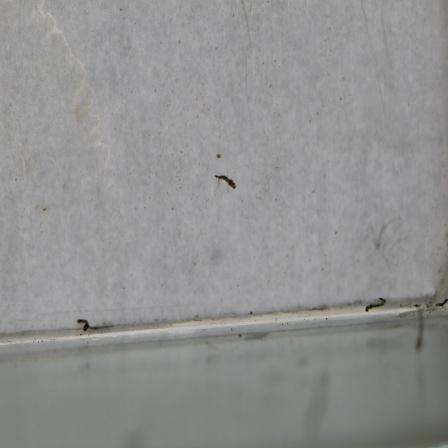Jentik-Nyamuk: (362, 295, 390, 316), (213, 172, 238, 192), (74, 314, 93, 337)
